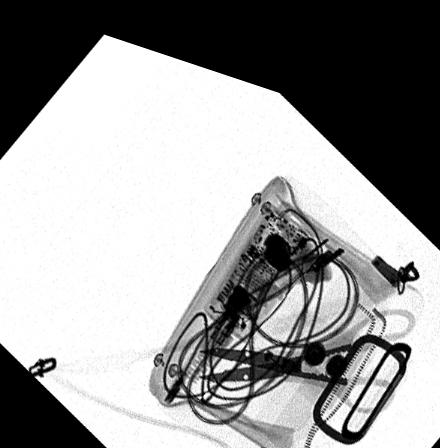Scissors: (187, 278, 416, 392)
